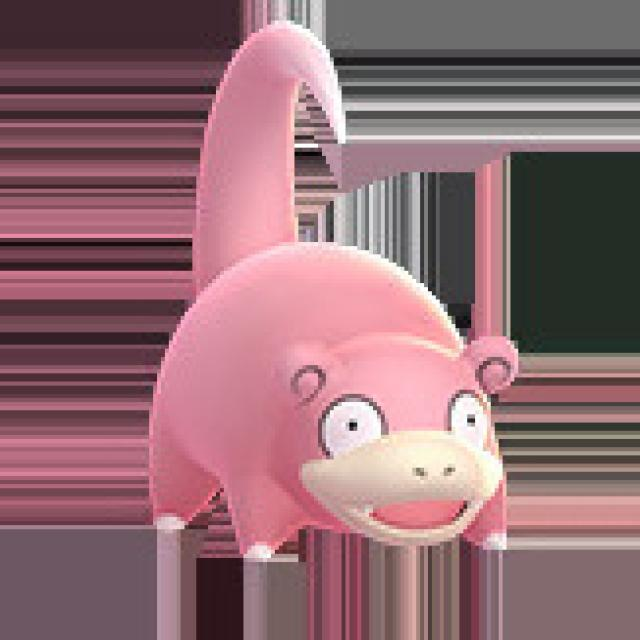Slowpoke: (147, 239, 517, 557)
